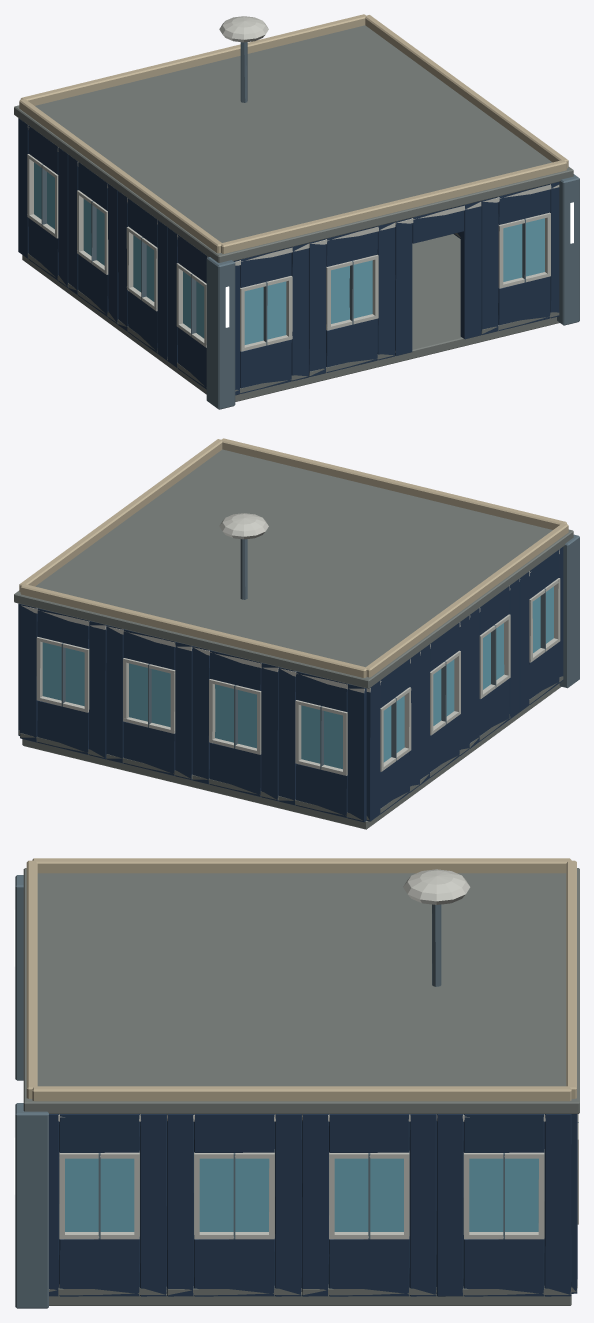
The model's file is architecture-outpost.lod1.glb.
The picture shows the model from 3 angles, top to bottom: view 1: azimuth 30°, elevation 25°; view 2: azimuth 150°, elevation 25°; view 3: azimuth 270°, elevation 25°; orthographic projection. The views are drawn at different scales.
Visible parts, largest first — view 1: architecture-outpost__body; view 2: architecture-outpost__body; view 3: architecture-outpost__body.
Part boxes in pixels (left/top/right/bottom): architecture-outpost__body: left=14, top=14, right=579, bottom=409; architecture-outpost__body: left=14, top=438, right=579, bottom=829; architecture-outpost__body: left=14, top=858, right=579, bottom=1308.
Bounding box in the file's own units: 8.4 × 5.18 × 8.4.
